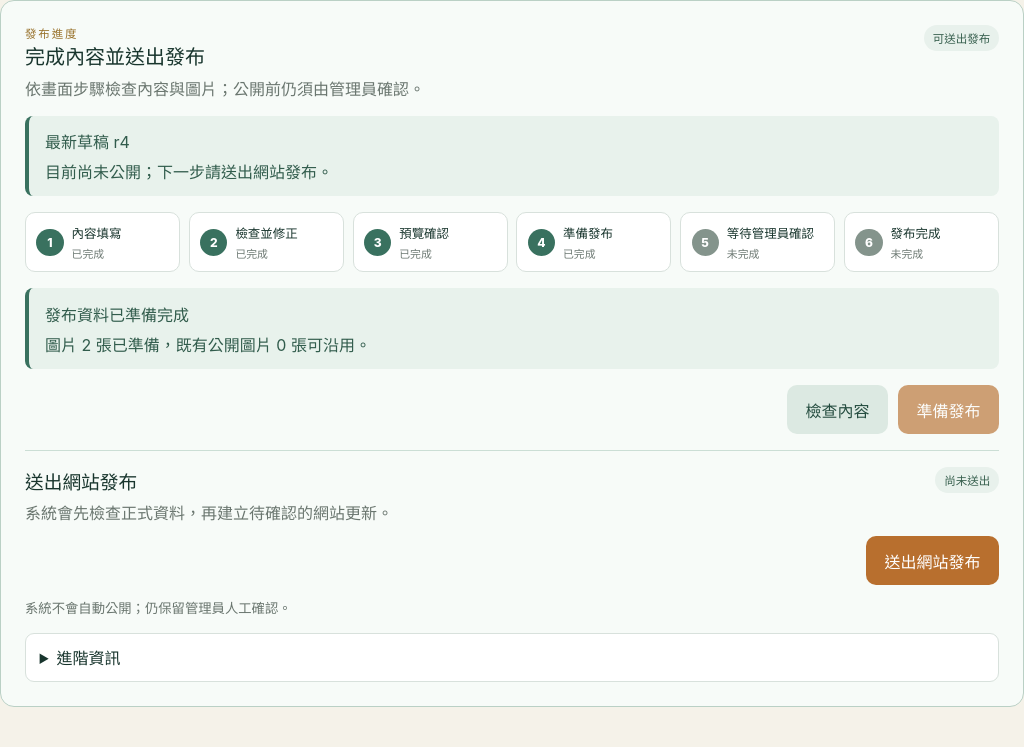
既有新版快照與ready preparation會沿用且不重複準備
Expected: the text "發布資料已準備完成" is shown, x1=45 y1=305 x2=189 y2=325
Expected: the button "準備發布" is disabled, x1=898 y1=385 x2=999 y2=434
Click the heading "進階資訊" at point(88, 658), box x1=56 y1=648 x2=120 y2=668
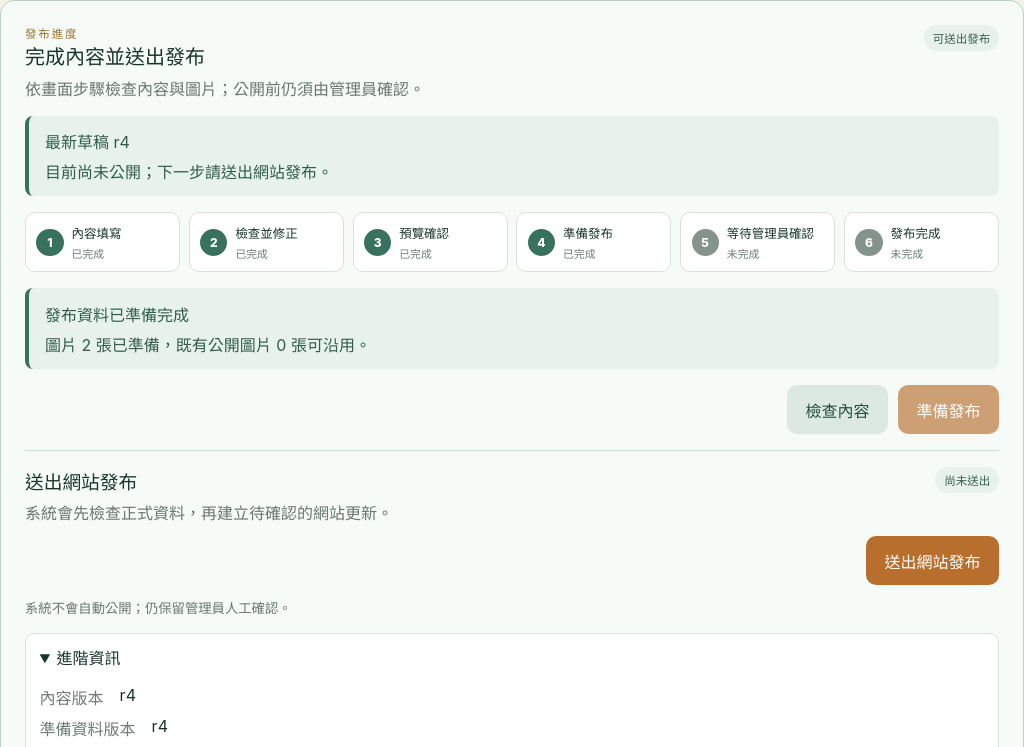
Expected: the text "r4" next to "內容版本" is shown, x1=120 y1=685 x2=136 y2=709
